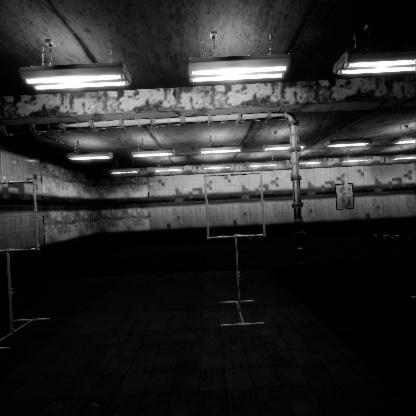gate: (204, 176, 270, 244)
